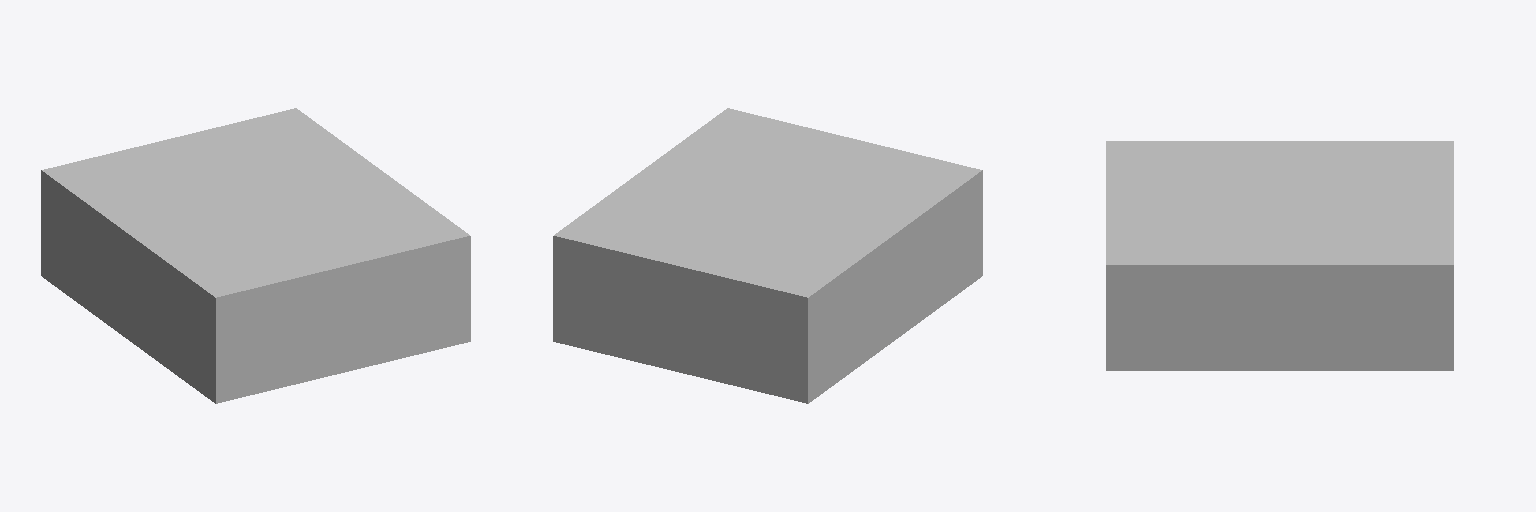
Rendered from bandkid's house.obj.
The picture shows the model from 3 angles: view 1: azimuth 30°, elevation 25°; view 2: azimuth 150°, elevation 25°; view 3: azimuth 270°, elevation 25°; orthographic projection.
Parts seen in each view (by area): view 1: Cube; view 2: Cube; view 3: Cube.
Part boxes in pixels (left/top/right/bottom): Cube: left=41, top=108, right=470, bottom=403; Cube: left=553, top=108, right=982, bottom=403; Cube: left=1106, top=141, right=1453, bottom=370.
Size of the model in its own units: 9.58 by 3.81 by 11.34.